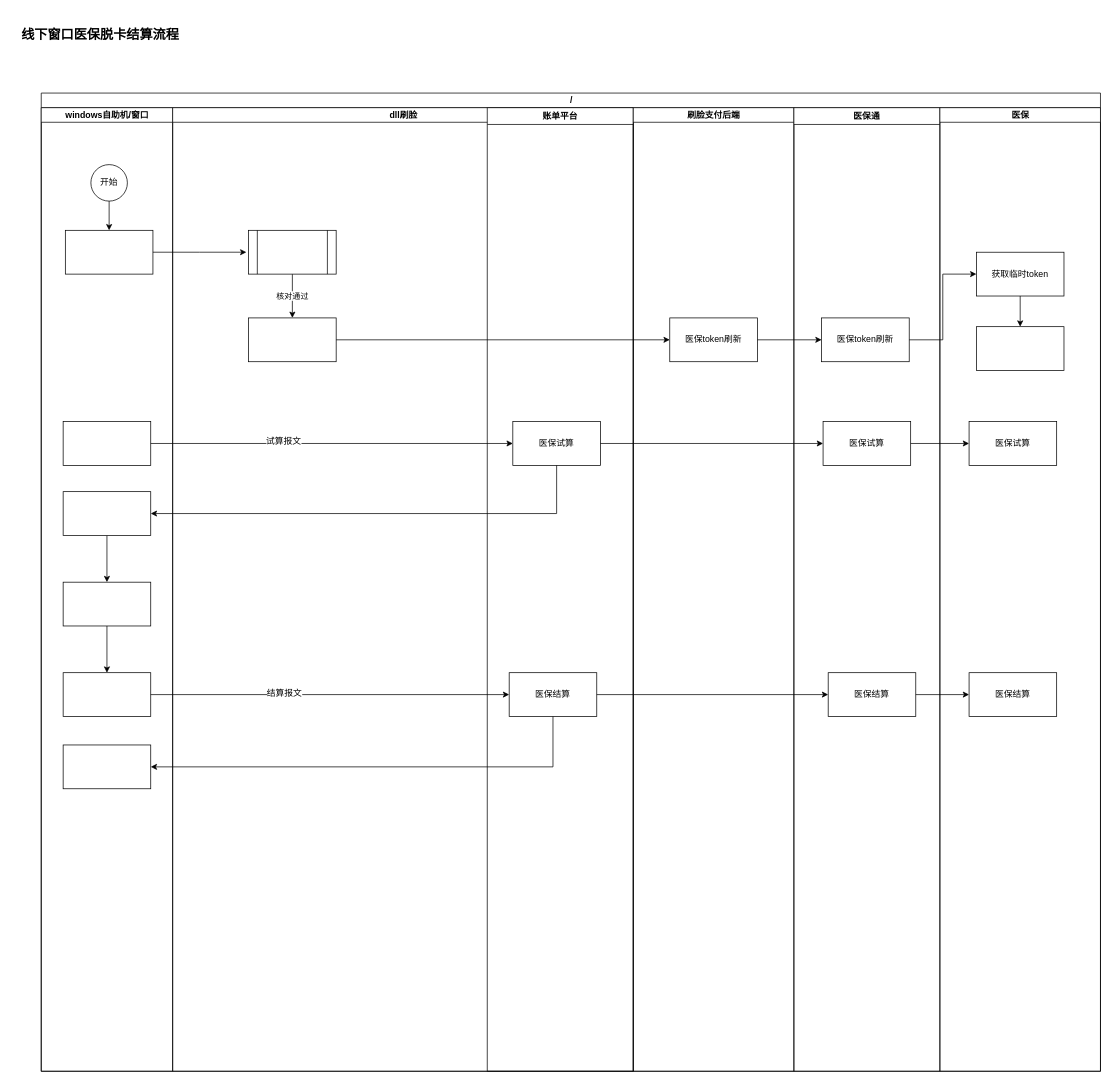
The diagram is 1113 pixels wide and 1084 high, and some of its shapes have lost their labels. Here are the shapes that lost their labels. From the top down, the centre of each, then its label:
At (x=109, y=252): "医保卡信息（卡号，卡识别码，姓名，身份证号）".
At (x=292, y=252): "刷脸核身（非会员模式）".
At (x=292, y=339): "根据入参的医保信息，刷新token".
At (x=1020, y=348): "获取正式token".
At (x=106, y=443): "开始试算".
At (x=106, y=513): "试算后，展示费用明细".
At (x=106, y=603): "自费支付（医院原有的自费渠道，现金，刷卡，扫码付等）".
At (x=106, y=694): "开始结算，正式结算报文".
At (x=106, y=766): "支付结果显示".
